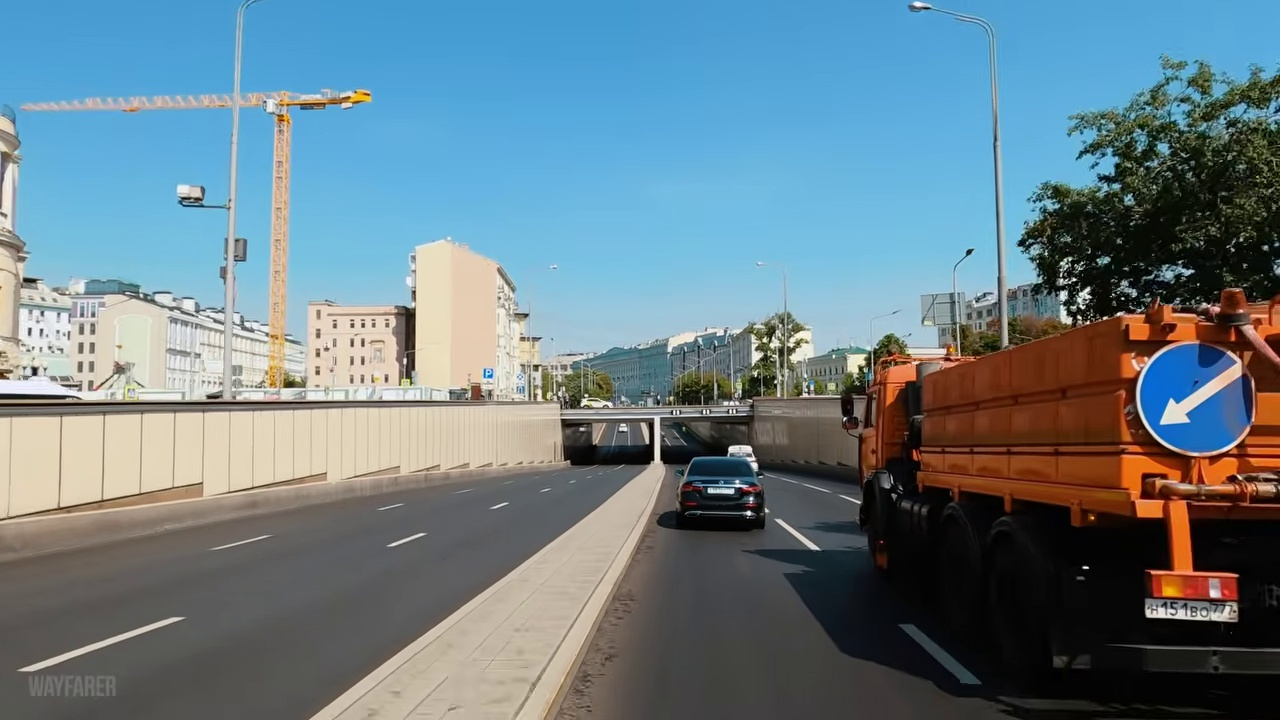acesa: (418, 246, 448, 273)
apagada: (904, 1, 935, 20)
